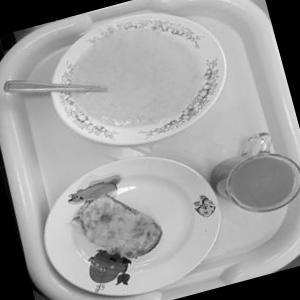cheese_sandwich: (61, 173, 176, 282)
coffee: (189, 121, 300, 242)
porridge: (41, 0, 238, 162)
